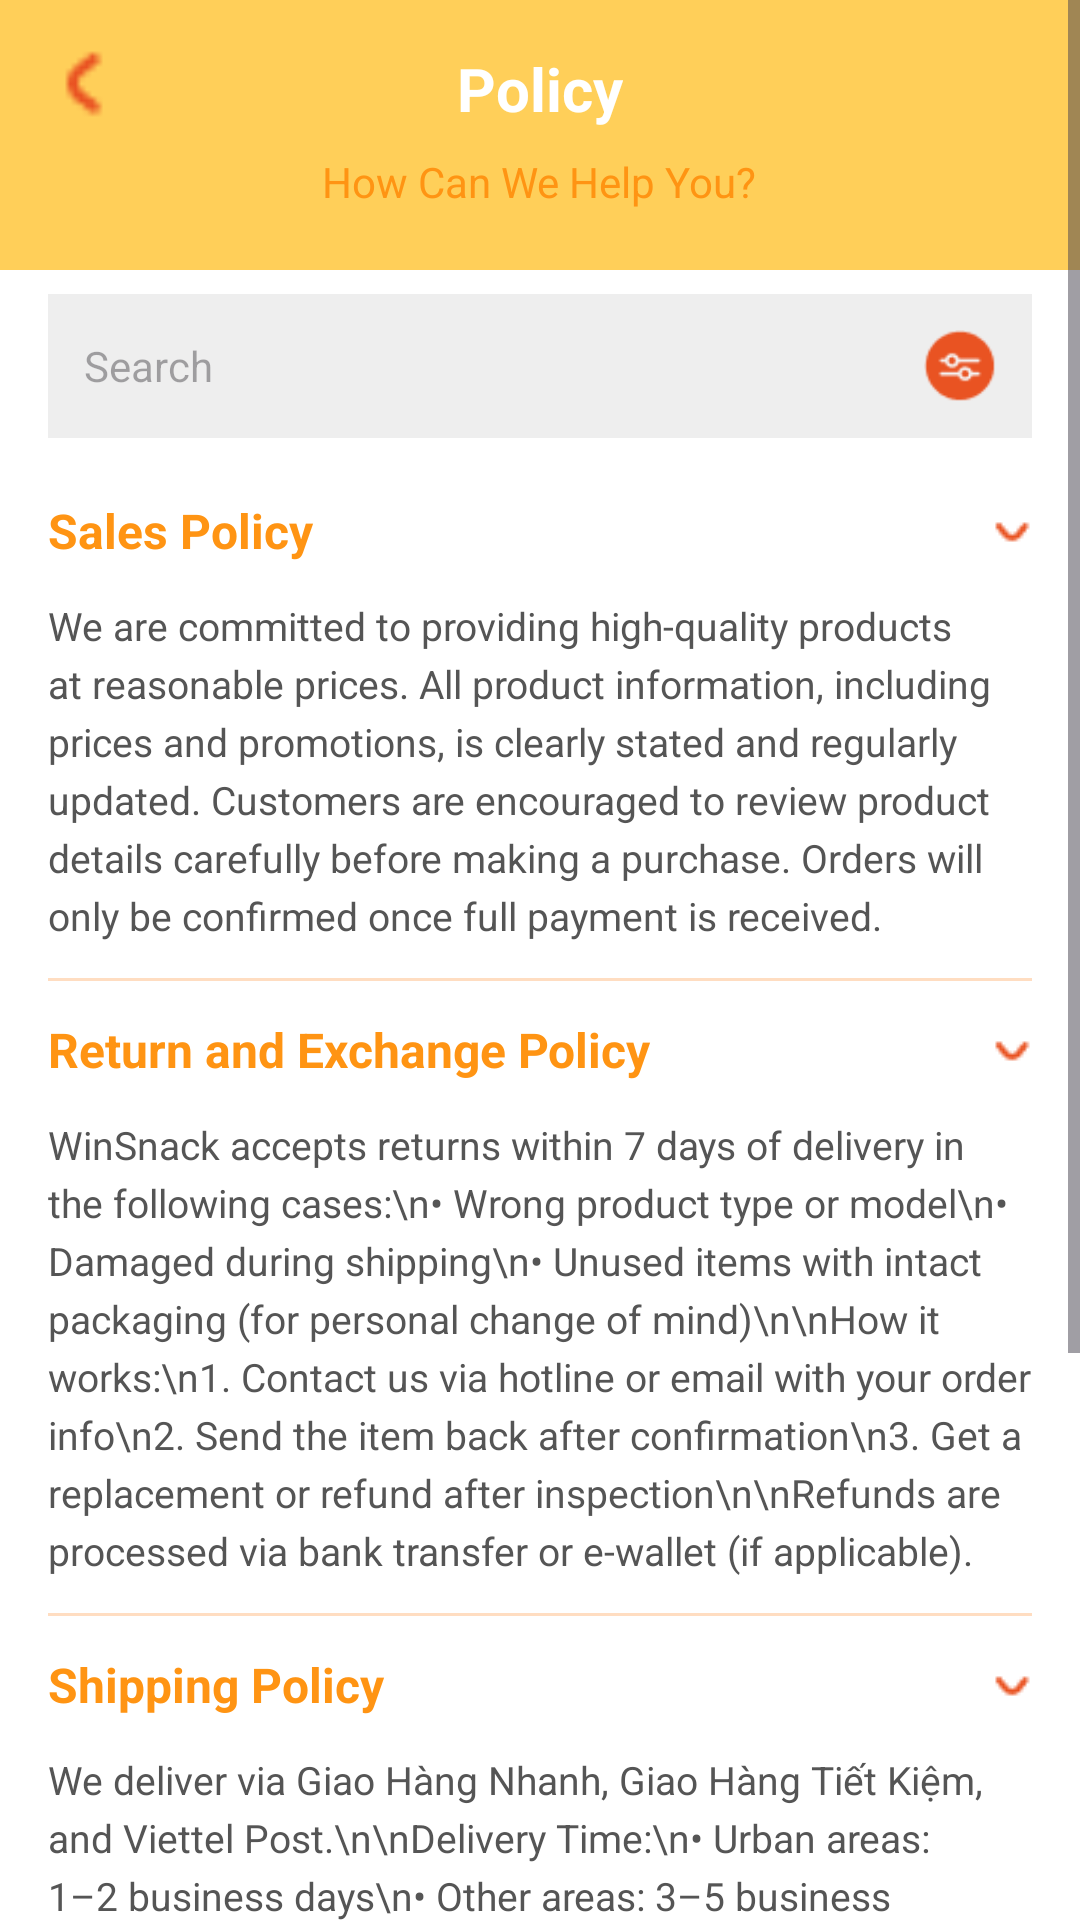

Where icons sit on this 1080*1920 app screen, as (x1, y1, x2, y2):
back: (66, 52, 102, 115)
filter: (924, 330, 995, 401)
